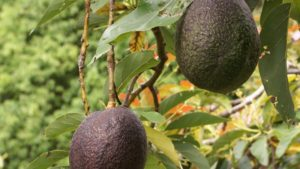fit_avocado: (169, 1, 263, 107), (71, 100, 153, 169)
